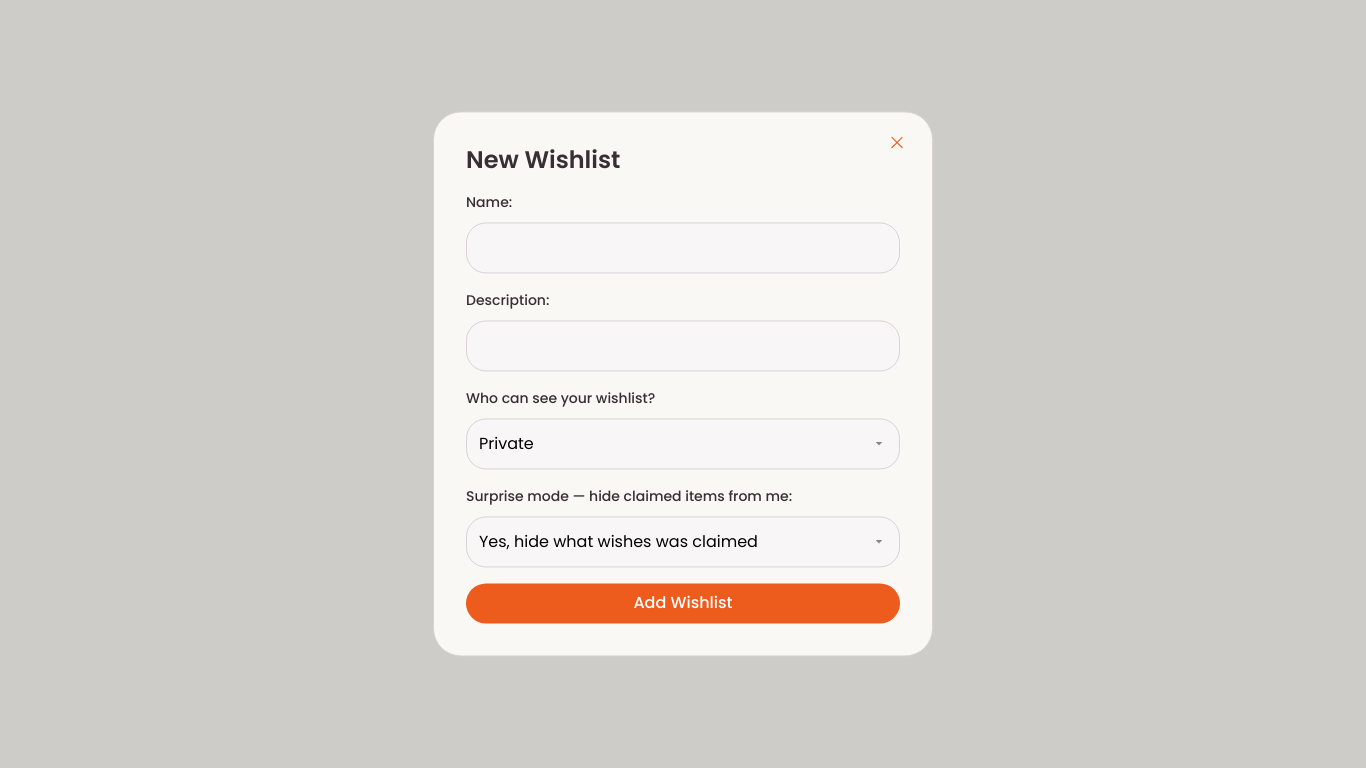
Scenario: WishlistModal › add mode › can't submit empty form
The width and height of the screenshot is (1366, 768).
Click the button "Add Wishlist" at [683, 604], box left=466, top=584, right=900, bottom=624
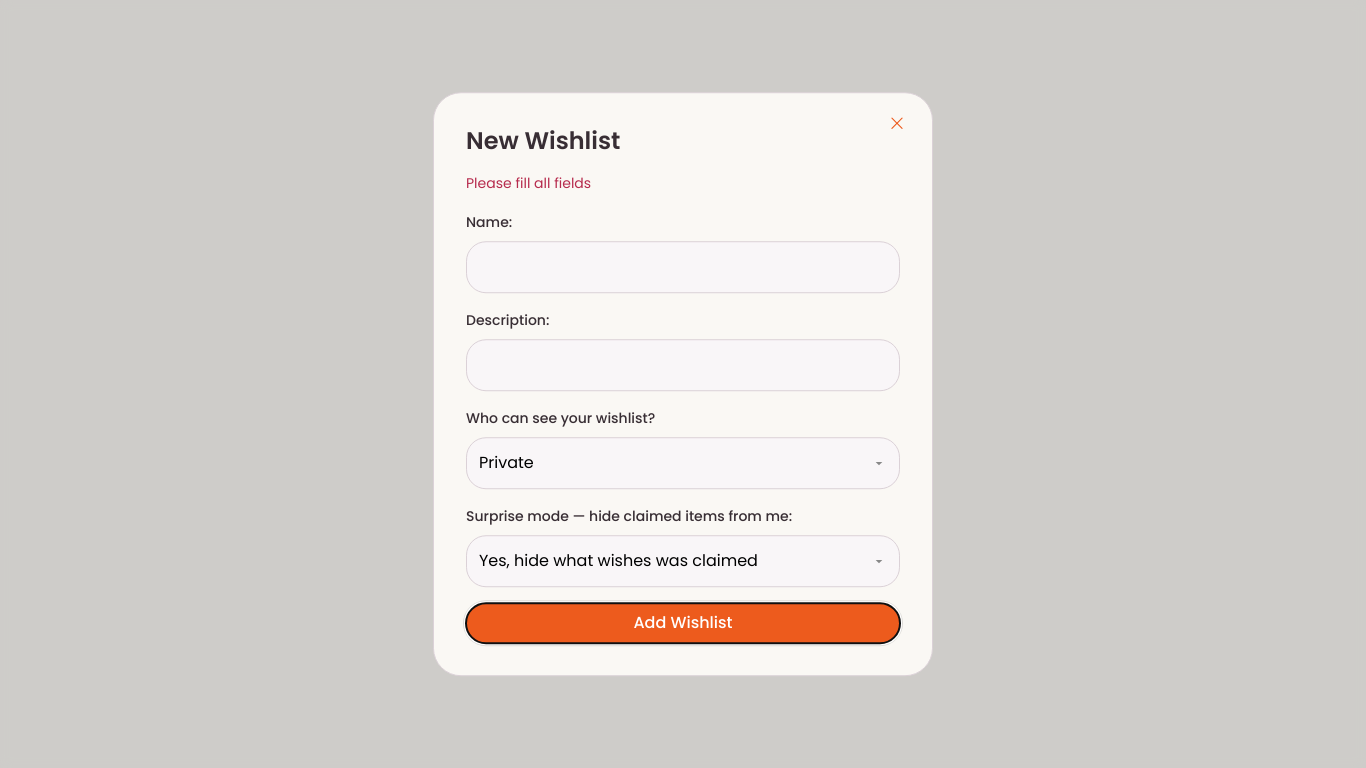
Result: the message "Please fill all fields" is shown at left=466, top=173, right=591, bottom=193
